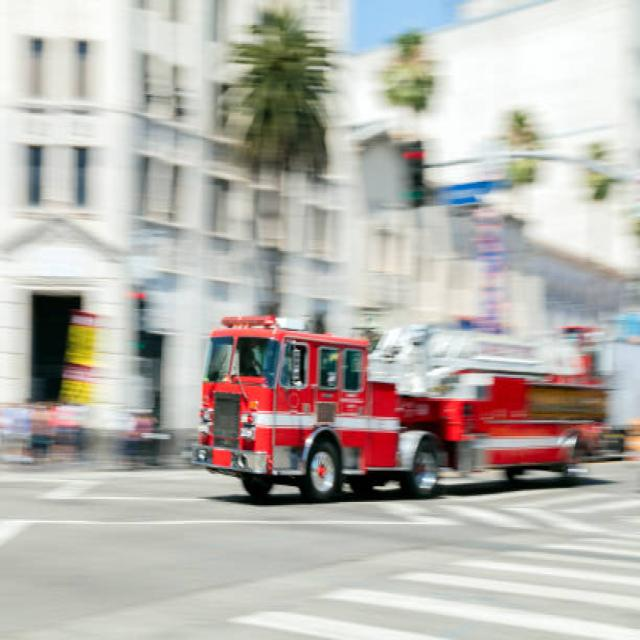emergency: (194, 317, 604, 502)
